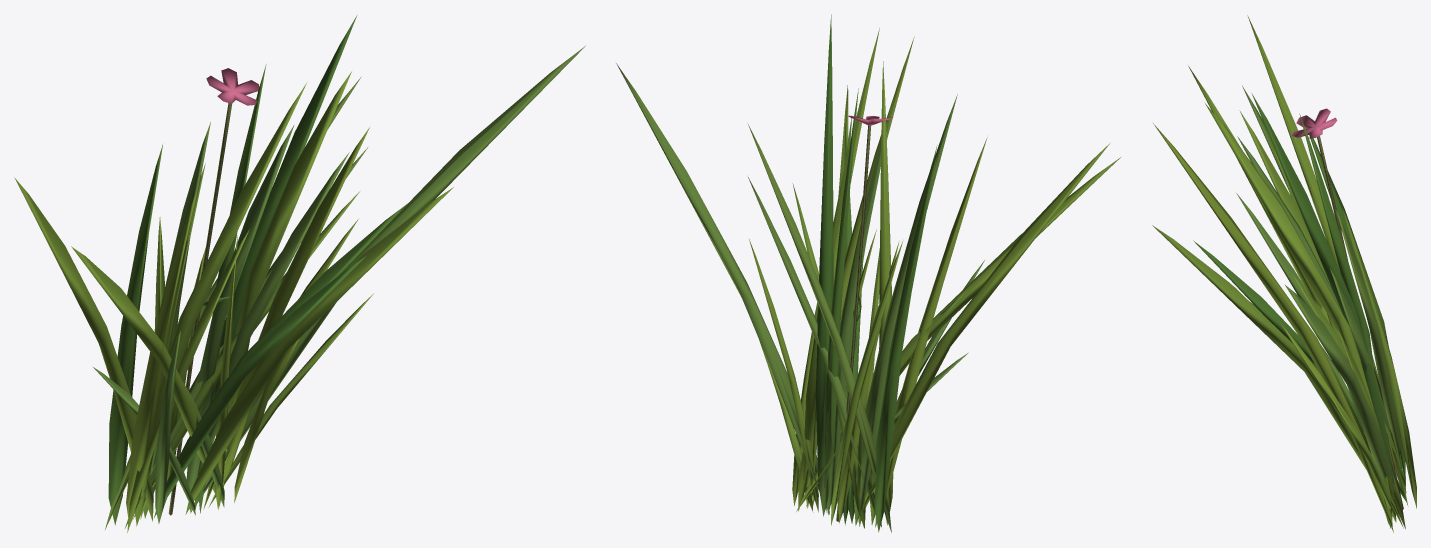
File: walltuft_campion.glb
3 views of the same model, side by side, from view 1: azimuth 30°, elevation 25°; view 2: azimuth 150°, elevation 25°; view 3: azimuth 270°, elevation 25° (orthographic). The views are drawn at different scales.
Visible parts, largest first — view 1: Sammel Pflanze, Sammel Putz; view 2: Sammel Pflanze, Sammel Putz; view 3: Sammel Pflanze, Sammel Putz.
Part boxes in pixels (<box>): Sammel Pflanze: <box>14,15,585,532</box>; Sammel Putz: <box>168,103,231,515</box>; Sammel Pflanze: <box>616,14,1120,532</box>; Sammel Putz: <box>836,125,870,521</box>; Sammel Pflanze: <box>1152,15,1416,532</box>; Sammel Putz: <box>1317,136,1403,509</box>.
Bounding box in the file's own units: 0.5538 × 0.4824 × 0.2537.
